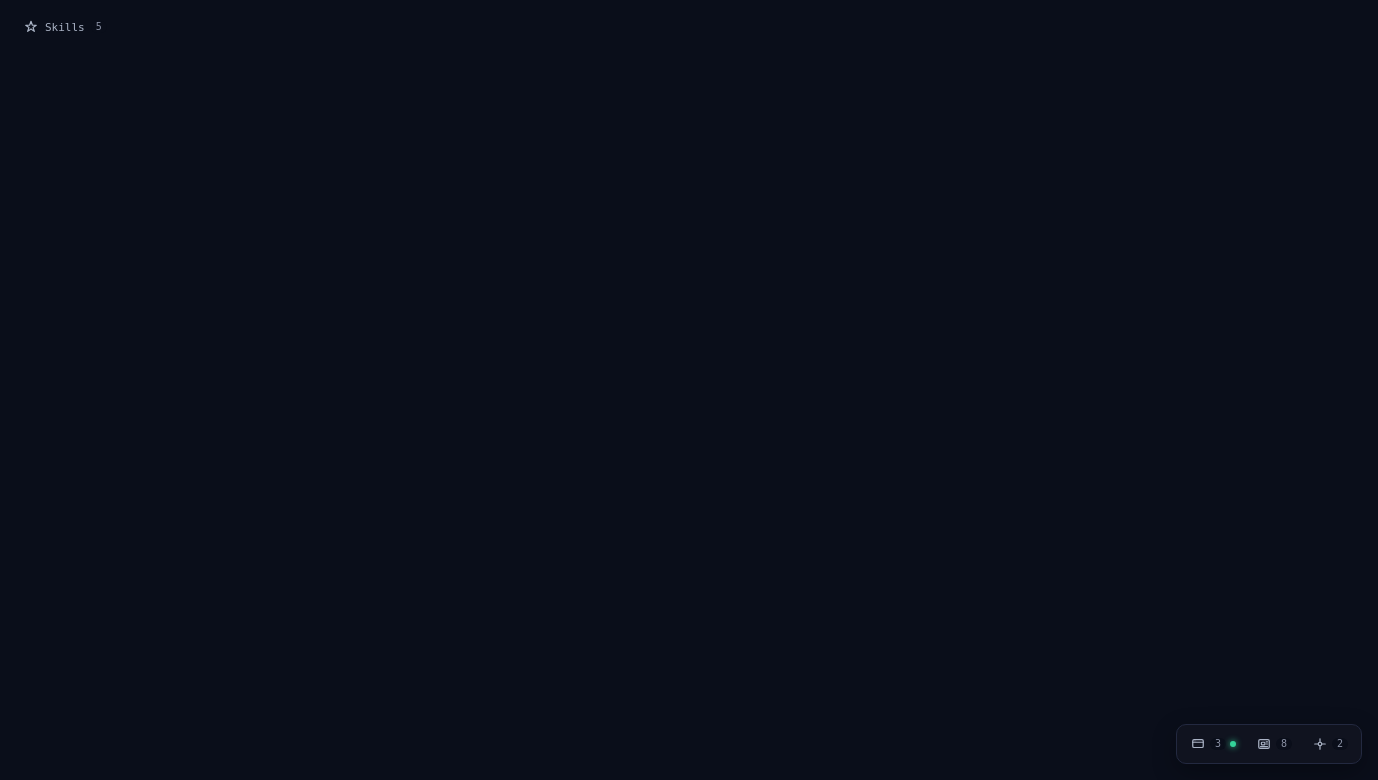
BottomRightDock › toggling a pill opens and closes its panel
Click the button named "Sessions" at (1213, 744), box [1181, 729, 1245, 759]
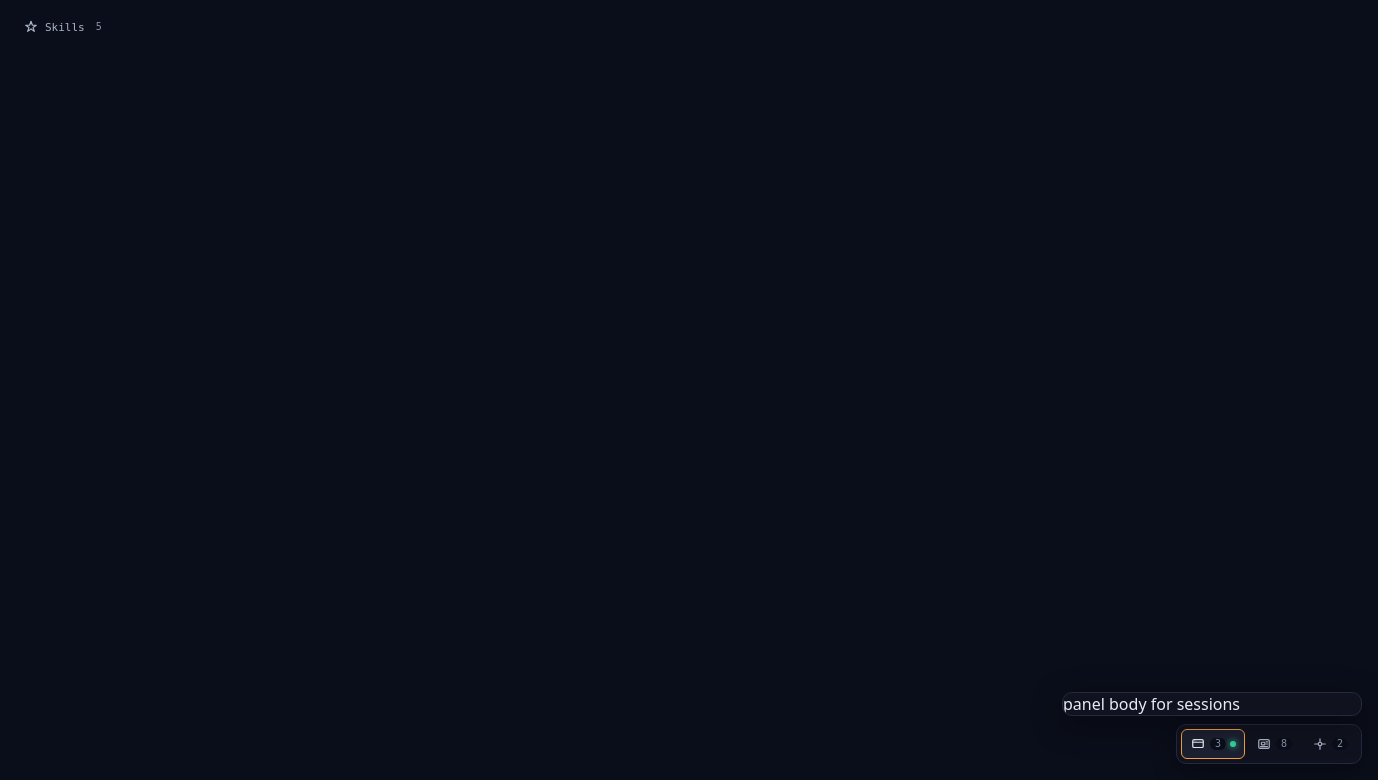
Check: the text "panel body for sessions" is shown, box [1063, 693, 1240, 715]
Click the button named "Sessions" at (1213, 744), box [1181, 729, 1245, 759]
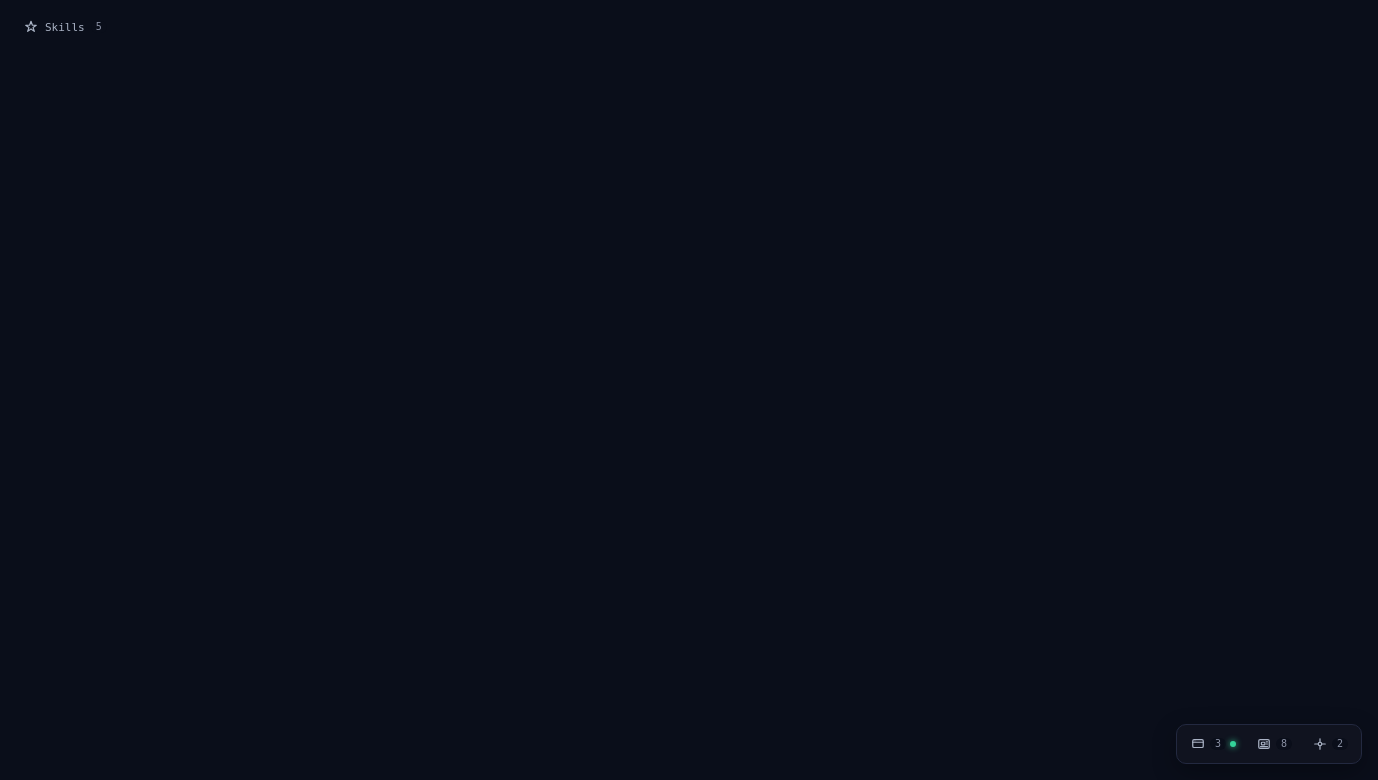
Check: the text with test id "panel-sessions-body" is gone
